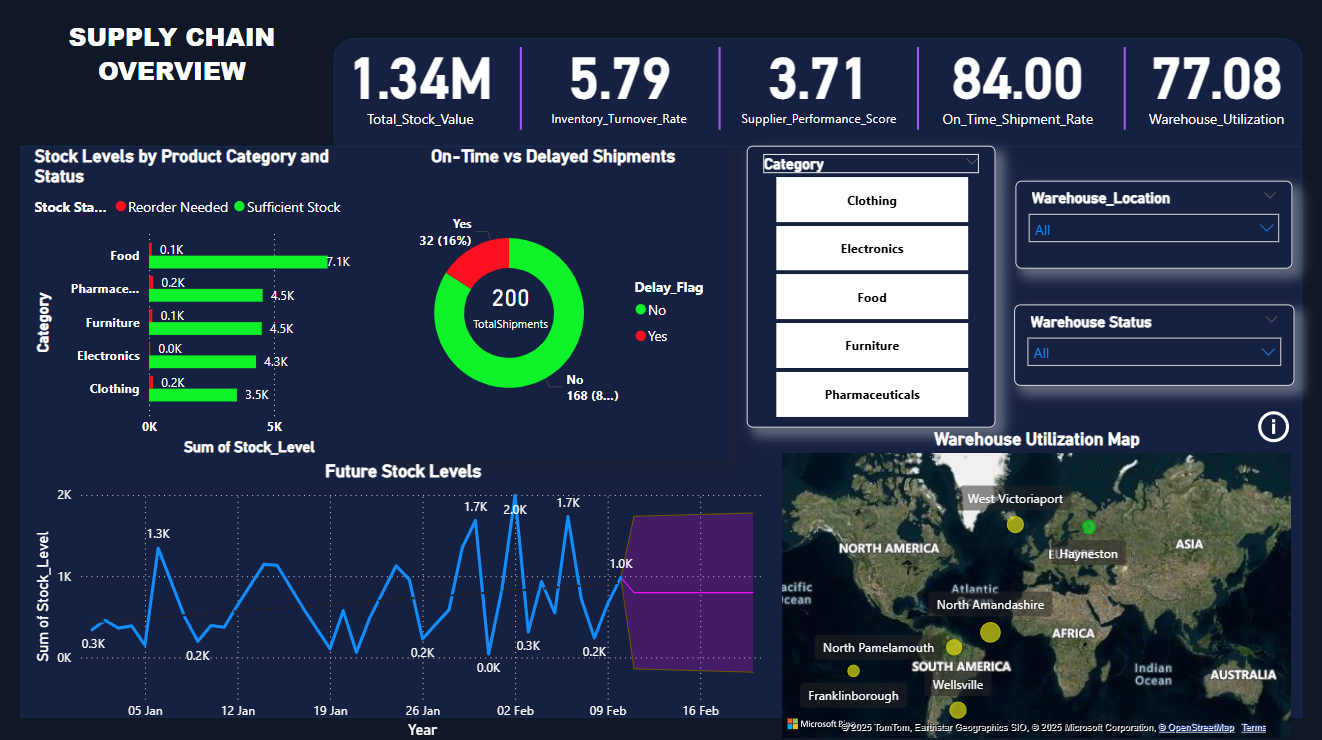

Layout of this report page (visuals, bound fields, positions):
{"tool":"powerbi","page":{"name":"Supply Chain Overview","canvas":[1280,720],"ordinal":0},"visuals":[{"type":"card","fields":{"Values":["inventory_logs.Total_Stock_Value"]},"box":[320,0,176,160],"z":0},{"type":"card","fields":{"Values":["inventory_logs.Inventory_Turnover_Rate"]},"box":[512,0,176,160],"z":1000},{"type":"card","fields":{"Values":["supplier_data.Supplier_Performance_Score"]},"box":[704,0,176,160],"z":2000},{"type":"card","fields":{"Values":["shipping_data.On_Time_Shipment_Rate"]},"box":[896,0,176,160],"z":3000},{"type":"card","fields":{"Values":["warehouse_data.Warehouse_Utilization"]},"box":[1088,0,176,160],"z":4000},{"type":"clusteredBarChart","title":"Stock Levels by Product Category and Status","fields":{"Y":["Sum(inventory_logs.Stock_Level)"],"Category":["inventory_logs.Category"],"Series":["inventory_logs.Stock Status"]},"box":[30.2,144.1,322.5,303.3],"z":5000},{"type":"donutChart","title":"On-Time vs Delayed Shipments","fields":{"Category":["shipping_data.Delay_Flag"],"Y":["CountNonNull(shipping_data.Shipment_ID)"]},"box":[368,144,336,304],"z":6000},{"type":"map","title":"Warehouse Utilization Map","fields":{"Size":["Sum(warehouse_data.Storage_Capacity)"],"Y":["Avg(warehouse_data.Latitude)"],"X":["Avg(warehouse_data.Longitude)"],"Category":["warehouse_data.Warehouse_Location"]},"box":[752,415.8,502.2,304.6],"z":7000},{"type":"lineChart","title":"Future Stock Levels","fields":{"Y":["Sum(inventory_logs.Stock_Level)"],"Category":["inventory_logs.Date.Variation.Date Hierarchy.Year","inventory_logs.Date.Variation.Date Hierarchy.Quarter","inventory_logs.Date.Variation.Date Hierarchy.Month","inventory_logs.Date.Variation.Date Hierarchy.Day"]},"box":[30.2,447.3,721.8,273.1],"z":8000},{"type":"textbox","box":[16,16,304,96],"z":9000},{"type":"slicer","fields":{"Values":["inventory_logs.Category"]},"box":[723.2,144.1,240.1,271.7],"z":10000},{"type":"slicer","fields":{"Values":["warehouse_data.Warehouse_Location"]},"box":[982.5,177,267.6,85.1],"z":11000},{"type":"shape","box":[336,48,336,80],"z":12000},{"type":"shape","box":[528,48,336,80],"z":13000},{"type":"shape","box":[736,48,304,80],"z":14000},{"type":"shape","box":[944,48,288,80],"z":15000},{"type":"card","fields":{"Values":["shipping_data.TotalShipments"]},"box":[443.2,262.1,104.3,68.6],"z":16000},{"type":"actionButton","box":[1211.7,391.1,39.8,48],"z":17000},{"type":"slicer","fields":{"Values":["warehouse_data.Warehouse Status"]},"box":[981.1,296.4,270.3,78.2],"z":18000}]}

Visuals, with their boxes in screenshot pixels (x1, y1, x2, y2), scaled from the page's 1280x720 canvas onto the 1322x740 screenshot:
card - inventory_logs.Total_Stock_Value: box=[330, 0, 512, 164]
card - inventory_logs.Inventory_Turnover_Rate: box=[529, 0, 711, 164]
card - supplier_data.Supplier_Performance_Score: box=[727, 0, 909, 164]
card - shipping_data.On_Time_Shipment_Rate: box=[925, 0, 1107, 164]
card - warehouse_data.Warehouse_Utilization: box=[1124, 0, 1305, 164]
"Stock Levels by Product Category and Status" clusteredBarChart: box=[31, 148, 364, 460]
"On-Time vs Delayed Shipments" donutChart: box=[380, 148, 727, 460]
"Warehouse Utilization Map" map: box=[777, 427, 1295, 739]
"Future Stock Levels" lineChart: box=[31, 460, 777, 739]
textbox: box=[17, 16, 330, 115]
slicer - inventory_logs.Category: box=[747, 148, 995, 427]
slicer - warehouse_data.Warehouse_Location: box=[1015, 182, 1291, 269]
shape: box=[347, 49, 694, 132]
shape: box=[545, 49, 892, 132]
shape: box=[760, 49, 1074, 132]
shape: box=[975, 49, 1272, 132]
card - shipping_data.TotalShipments: box=[458, 269, 565, 340]
actionButton: box=[1251, 402, 1293, 451]
slicer - warehouse_data.Warehouse Status: box=[1013, 305, 1292, 385]
